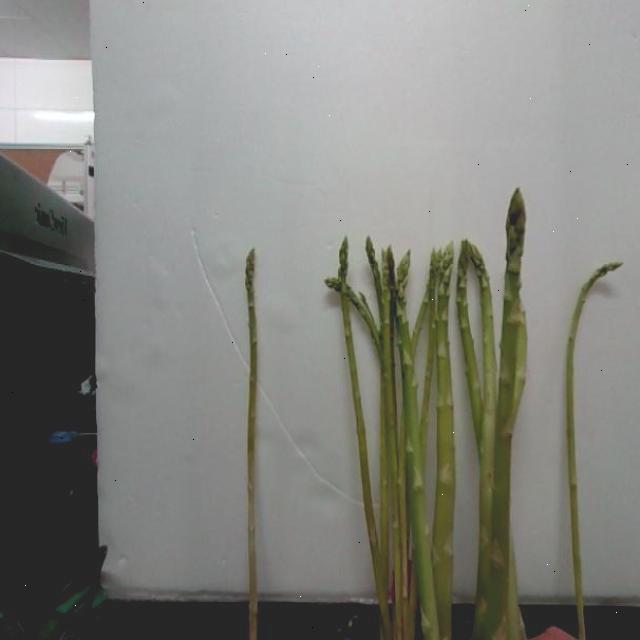aspargus: (241, 249, 258, 633)
